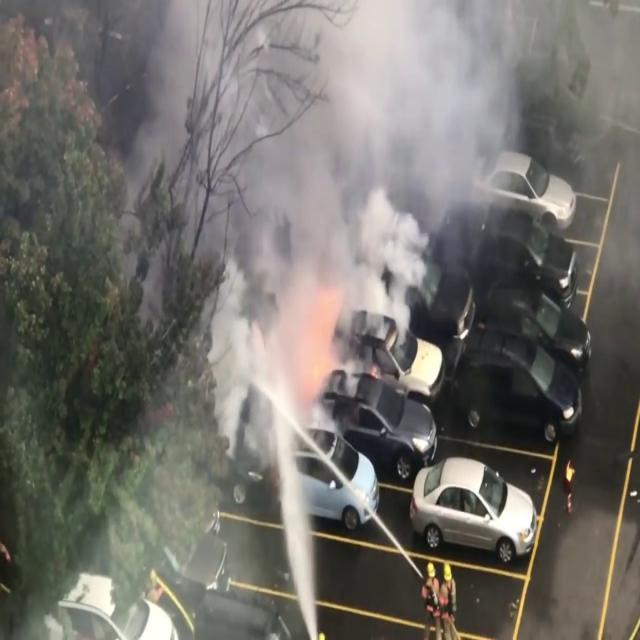Smoke: (201, 0, 558, 426)
